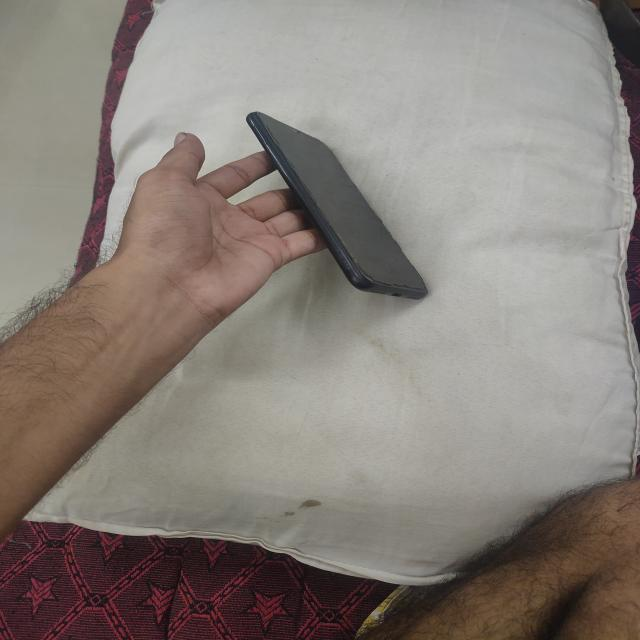Phone: (248, 106, 430, 307)
